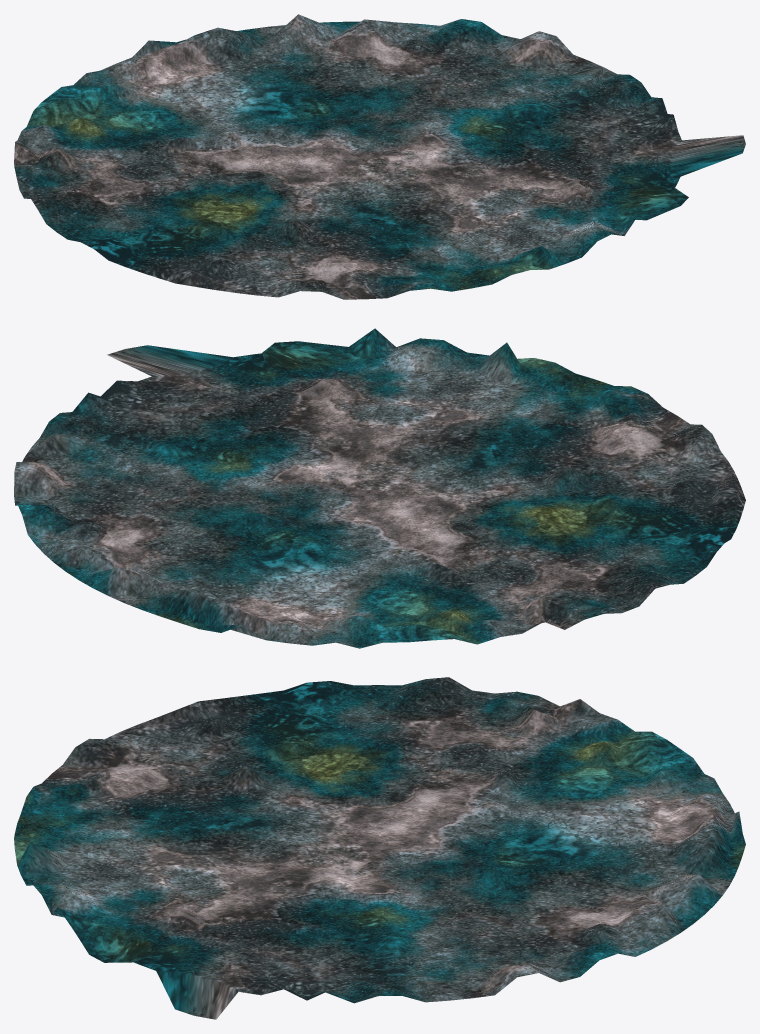
File: Suelo.obj
3 views of the same model, one above another, from view 1: azimuth 30°, elevation 25°; view 2: azimuth 150°, elevation 25°; view 3: azimuth 270°, elevation 25° (orthographic). The views are drawn at different scales.
Visible parts, largest first — view 1: Suelo1:pDisc1; view 2: Suelo1:pDisc1; view 3: Suelo1:pDisc1.
Part boxes in pixels (x1,y1,x2,y2): Suelo1:pDisc1: (14,14,745,299); Suelo1:pDisc1: (14,328,745,648); Suelo1:pDisc1: (14,677,745,1019).
Bounding box in the file's own units: 276 × 8.56 × 255.
Materials: 1 (1 with a texture image).
